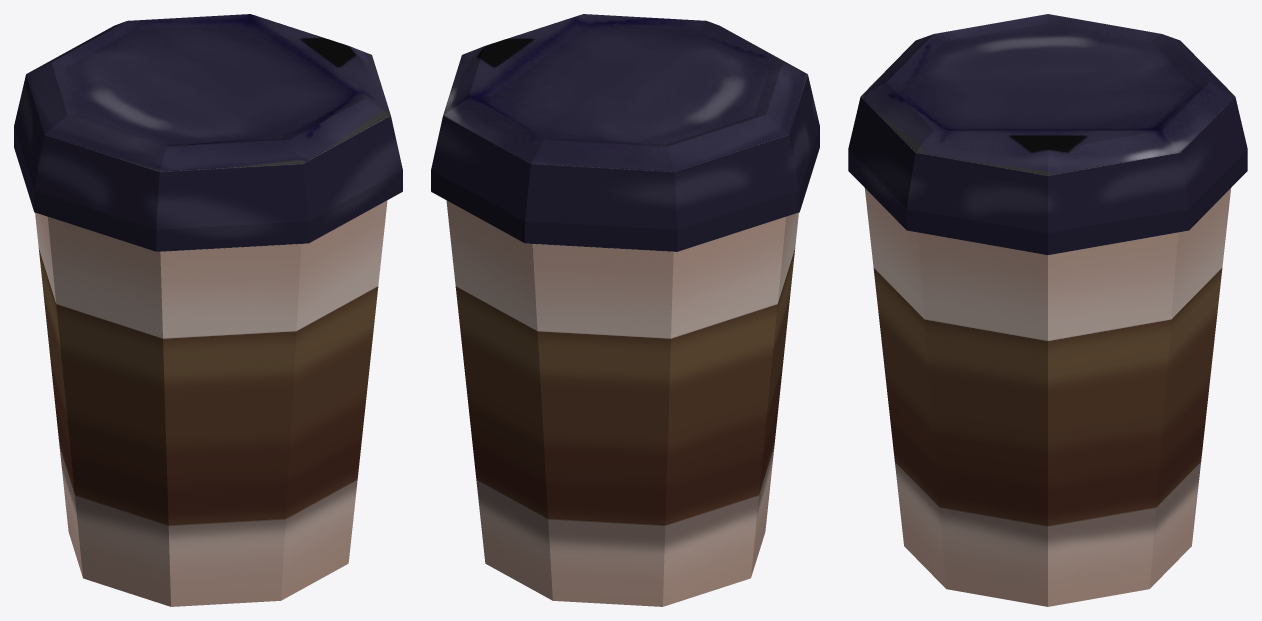
Rendered from coffee.glb.
The picture shows the model from 3 angles, left to right: view 1: azimuth 30°, elevation 25°; view 2: azimuth 150°, elevation 25°; view 3: azimuth 270°, elevation 25°; orthographic projection.
Visible parts, largest first — view 1: Coffee.001; view 2: Coffee.001; view 3: Coffee.001.
Boxes of the visible parts, box(x1,y1,x2,y2) form: Coffee.001: box(14, 14, 402, 606); Coffee.001: box(431, 14, 819, 606); Coffee.001: box(848, 14, 1247, 606).
Size of the model in its own units: 1.21 by 1.55 by 1.21.
1 material, 1 textured.
